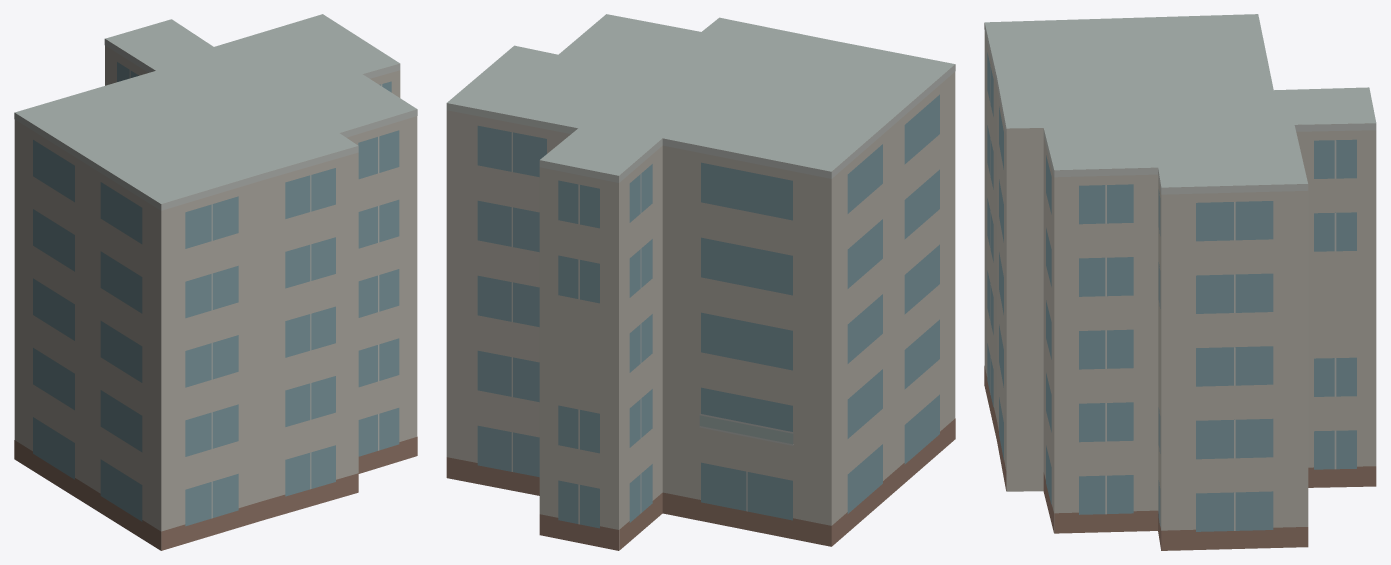
File: survey-upis-32922846.glb
3 views of the same model, side by side, from view 1: azimuth 30°, elevation 25°; view 2: azimuth 150°, elevation 25°; view 3: azimuth 270°, elevation 25° (orthographic). The views are drawn at different scales.
Visible parts, largest first — view 1: survey-upis-32922846.tmp; view 2: survey-upis-32922846.tmp; view 3: survey-upis-32922846.tmp.
Boxes of the visible parts, x1,y1,x2,y2 form: survey-upis-32922846.tmp: (14, 14, 417, 550); survey-upis-32922846.tmp: (446, 14, 955, 550); survey-upis-32922846.tmp: (984, 14, 1376, 550).
Size of the model in its own units: 13.03 by 12.7 by 12.43.
